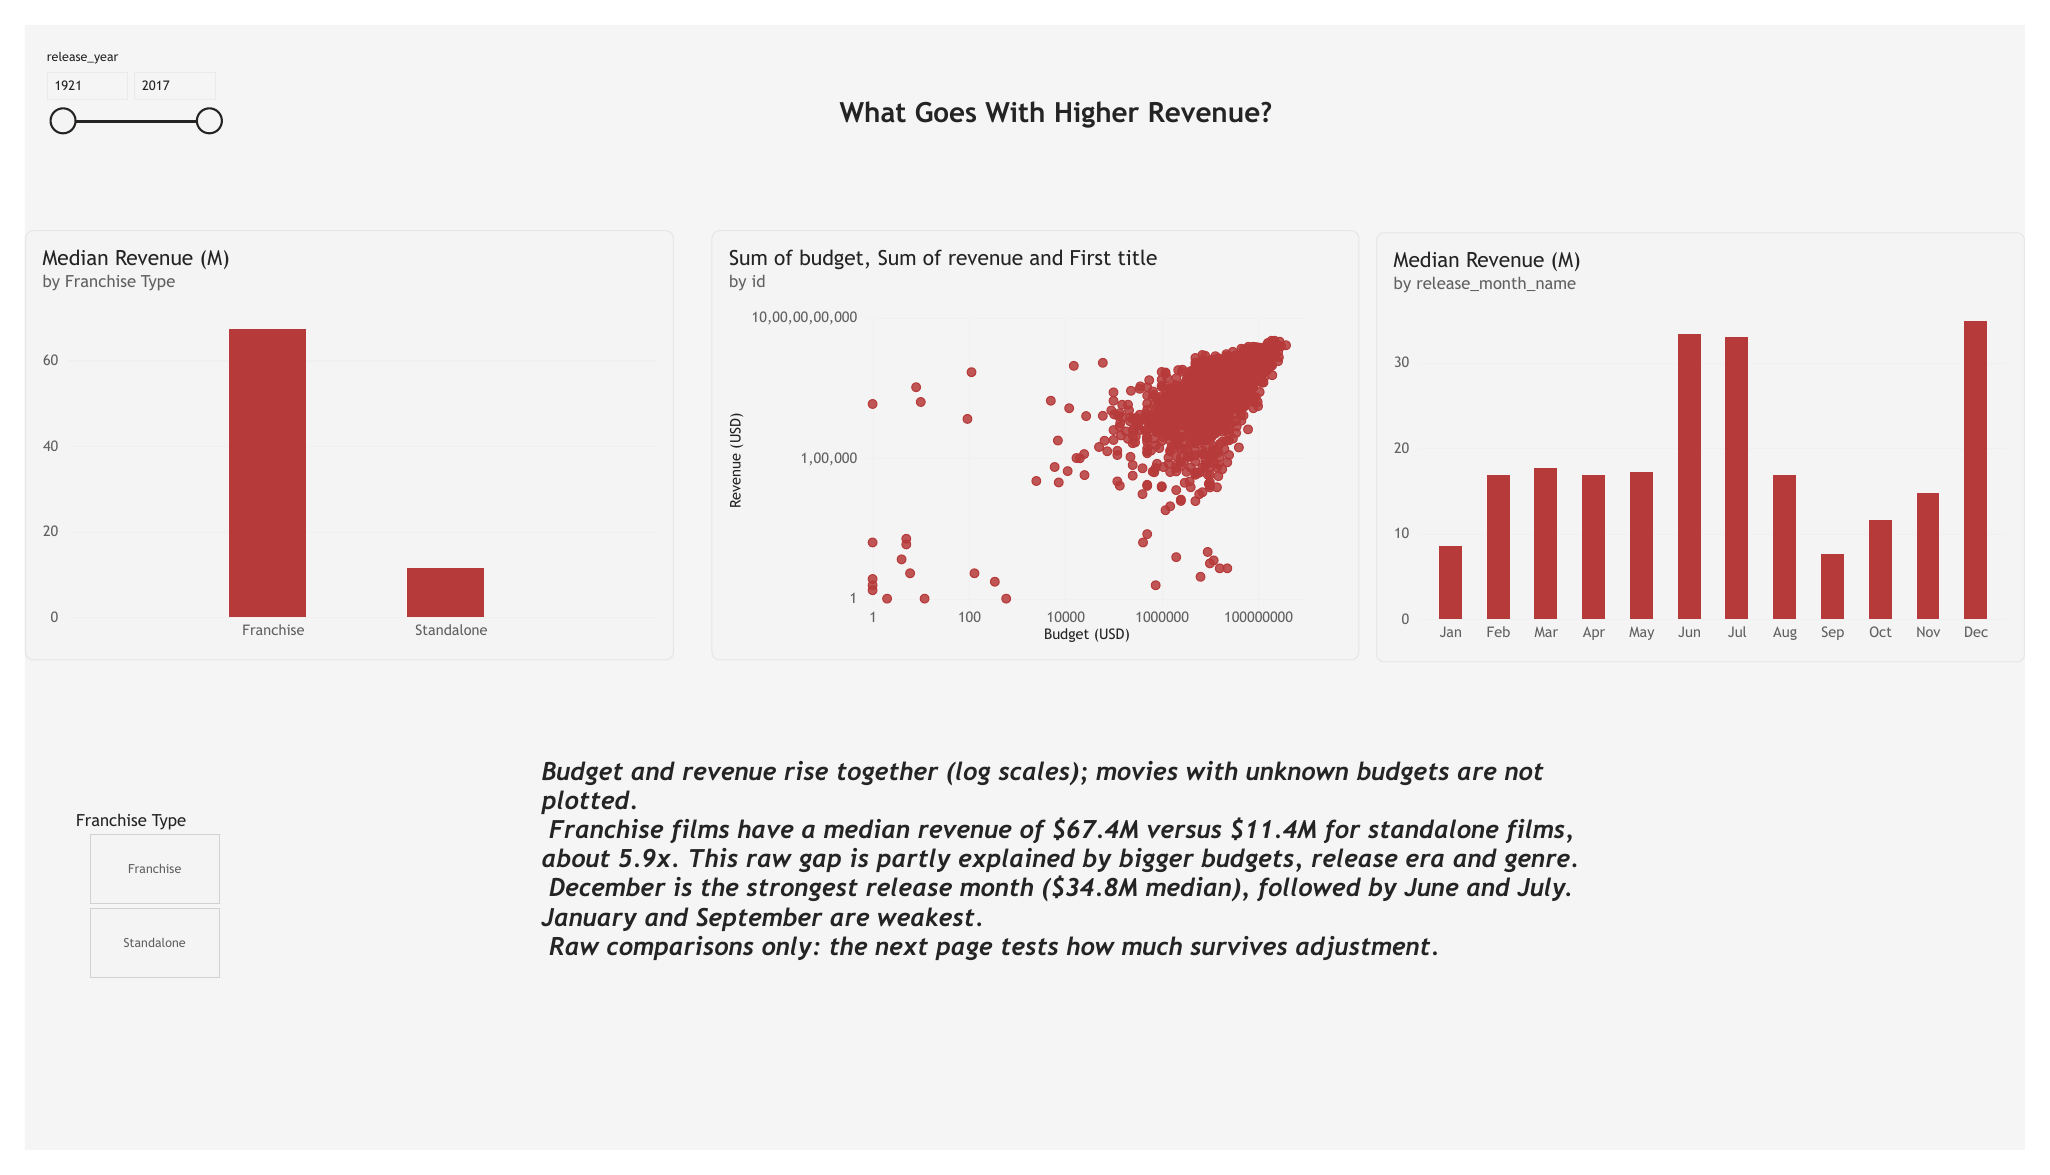

The page's visual inventory and layout, read from the dashboard file:
{"tool":"powerbi","page":{"name":"Drivers","canvas":[1920,1080],"ordinal":1},"visuals":[{"type":"scatterChart","fields":{"Category":["movies.id"],"X":["Sum(movies.budget)"],"Y":["Sum(movies.revenue)"]},"box":[658.6,197.1,622.9,412.9],"z":0},{"type":"clusteredColumnChart","fields":{"Category":["movies.Franchise Type"],"Y":["movies.Median Revenue (M)"]},"box":[0,197.1,623,413],"z":1000},{"type":"clusteredColumnChart","fields":{"Category":["movies.release_month_name"],"Y":["movies.Median Revenue (M)"]},"box":[1297.1,198.6,623,413],"z":2000},{"type":"slicer","fields":{"Values":["movies.release_year"]},"box":[12.9,24.3,180,90],"z":3000},{"type":"slicer","fields":{"Values":["movies.Franchise Type"]},"box":[41.4,754.3,164.3,162.9],"z":4000},{"type":"textbox","box":[633,900,164,163],"z":5000},{"type":"textbox","box":[736,593,520,150],"z":6000},{"type":"textbox","box":[797,743,459,150],"z":7000},{"type":"textbox","box":[782.2,68.9,497.8,82.2],"z":7001},{"type":"textbox","box":[495.6,702.2,1037.8,313.3],"z":7002}]}

Visuals, with their boxes in screenshot pixels (x1, y1, x2, y2), scaled from the page's 1920x1080 canvas onto the 2050x1175 screenshot:
scatterChart - movies.id x Sum(movies.budget): pyautogui.locateOnScreen(703, 214, 1368, 664)
clusteredColumnChart - movies.Franchise Type x movies.Median Revenue (M): pyautogui.locateOnScreen(0, 214, 665, 664)
clusteredColumnChart - movies.release_month_name x movies.Median Revenue (M): pyautogui.locateOnScreen(1385, 216, 2049, 665)
slicer - movies.release_year: pyautogui.locateOnScreen(14, 26, 206, 124)
slicer - movies.Franchise Type: pyautogui.locateOnScreen(44, 821, 220, 998)
textbox: pyautogui.locateOnScreen(676, 979, 851, 1157)
textbox: pyautogui.locateOnScreen(786, 645, 1341, 808)
textbox: pyautogui.locateOnScreen(851, 808, 1341, 972)
textbox: pyautogui.locateOnScreen(835, 75, 1367, 164)
textbox: pyautogui.locateOnScreen(529, 764, 1637, 1105)
